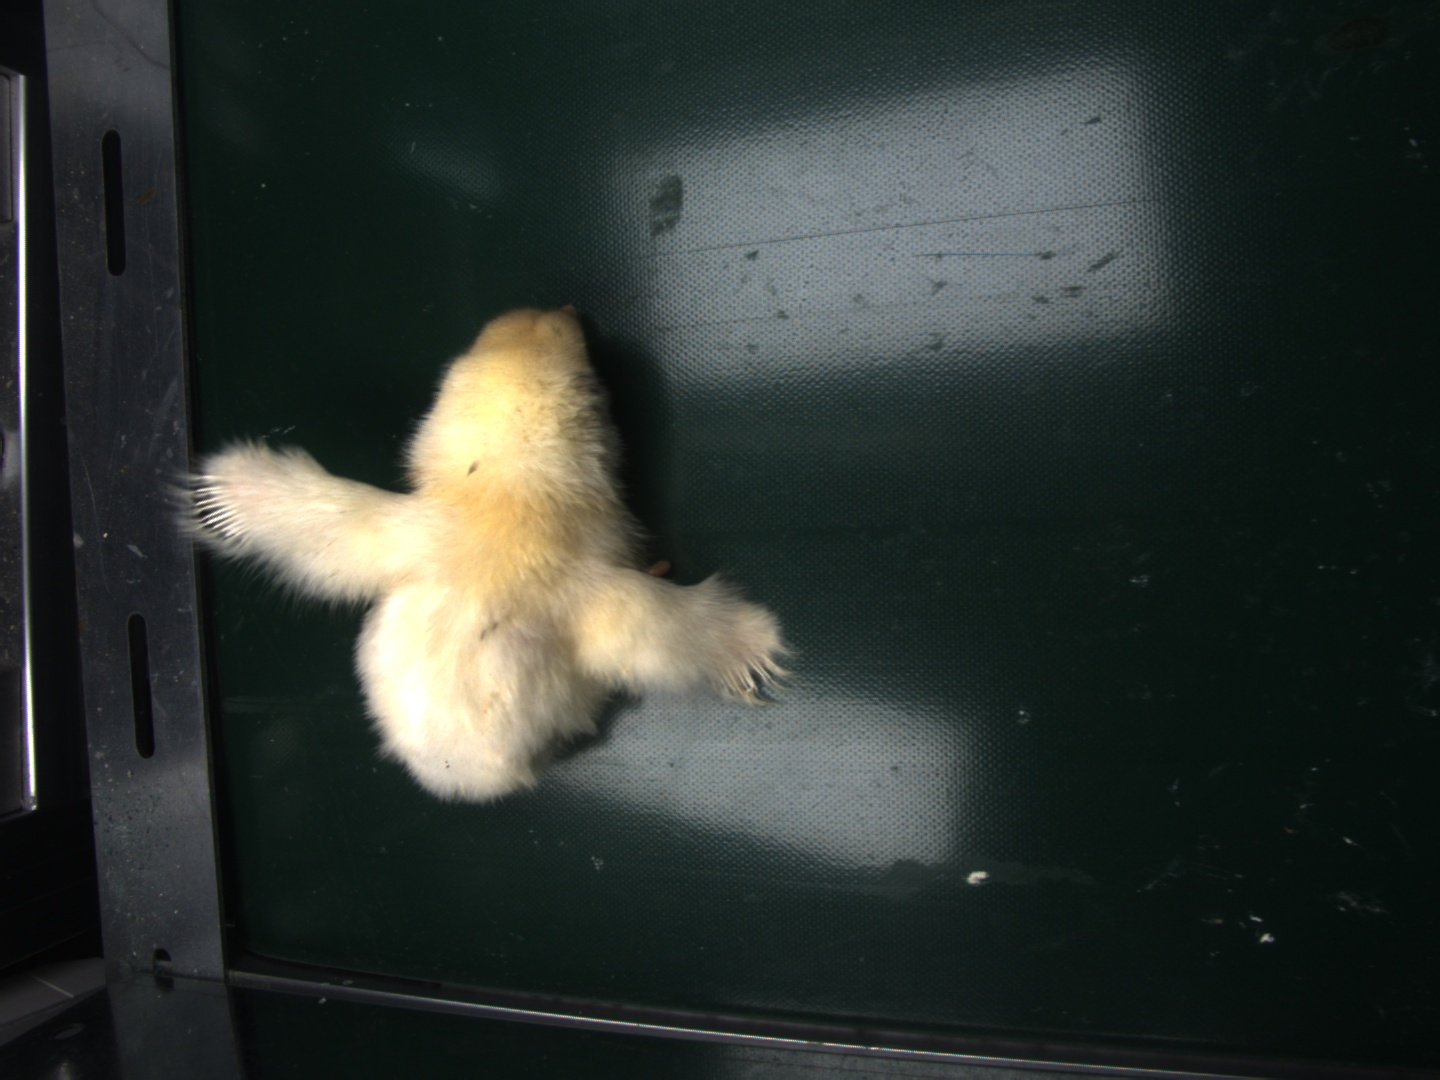male: (189, 478, 247, 546)
